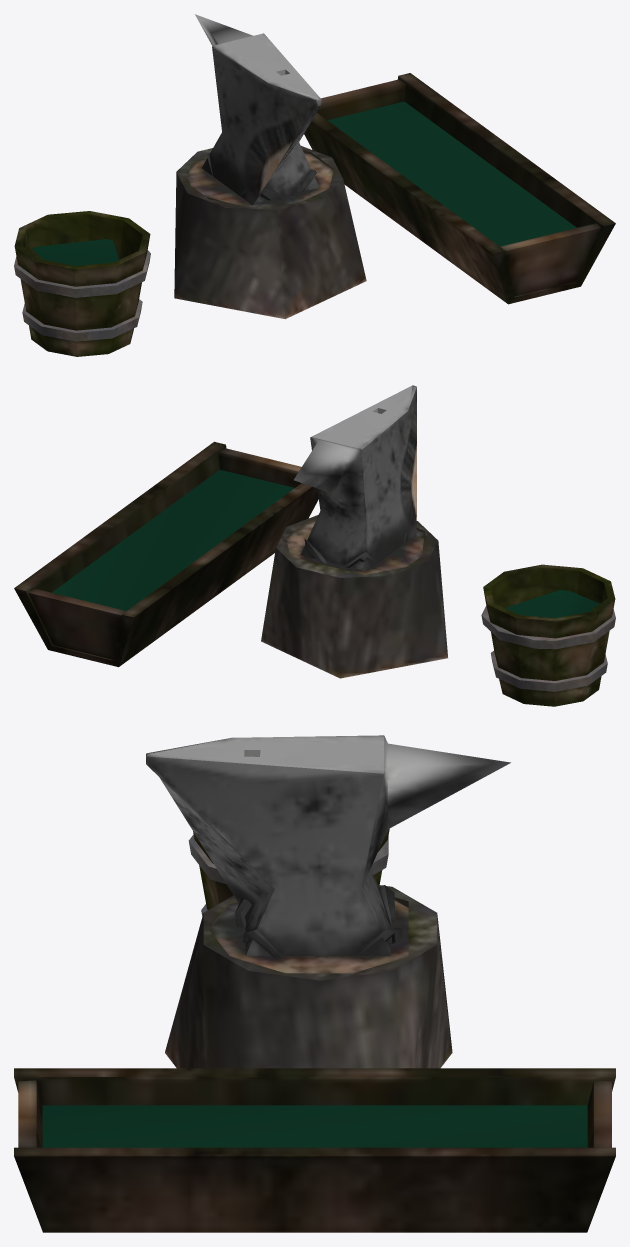
File: anvil-trough.lod1.glb
3 renders of one model, top to bottom at view 1: azimuth 30°, elevation 25°; view 2: azimuth 150°, elevation 25°; view 3: azimuth 270°, elevation 25°, orthographic. The views are drawn at different scales.
Visible parts, largest first — view 1: bucket_anvil_and_water1_0; view 2: bucket_anvil_and_water1_0; view 3: bucket_anvil_and_water1_0.
Boxes of the visible parts, box(x1,y1,x2,y2) form: bucket_anvil_and_water1_0: box(14, 14, 615, 356); bucket_anvil_and_water1_0: box(14, 385, 615, 706); bucket_anvil_and_water1_0: box(14, 735, 615, 1232).
Size of the model in its own units: 3.18 by 1.39 by 2.28.
Materials: 1 (1 with a texture image).
